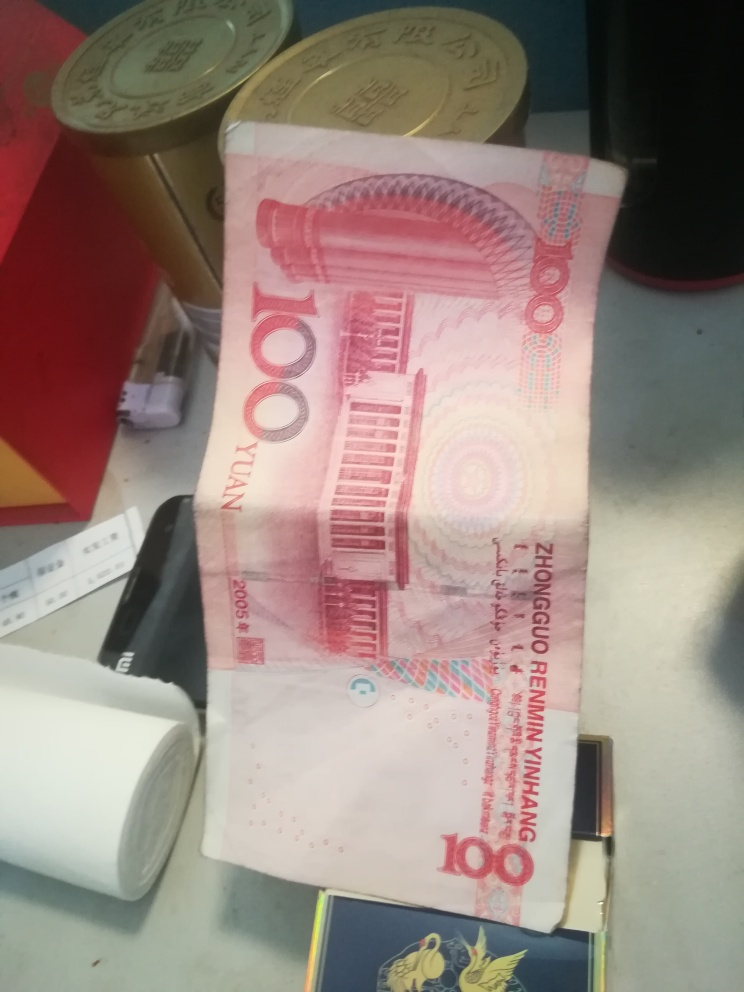rmb: (204, 121, 631, 953)
